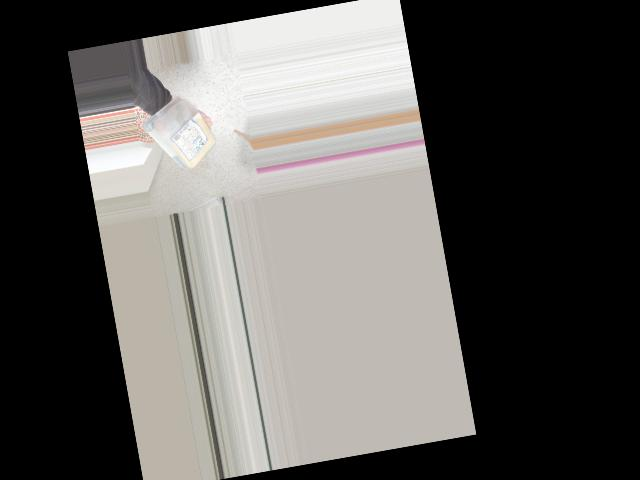cheese: (149, 98, 218, 172)
